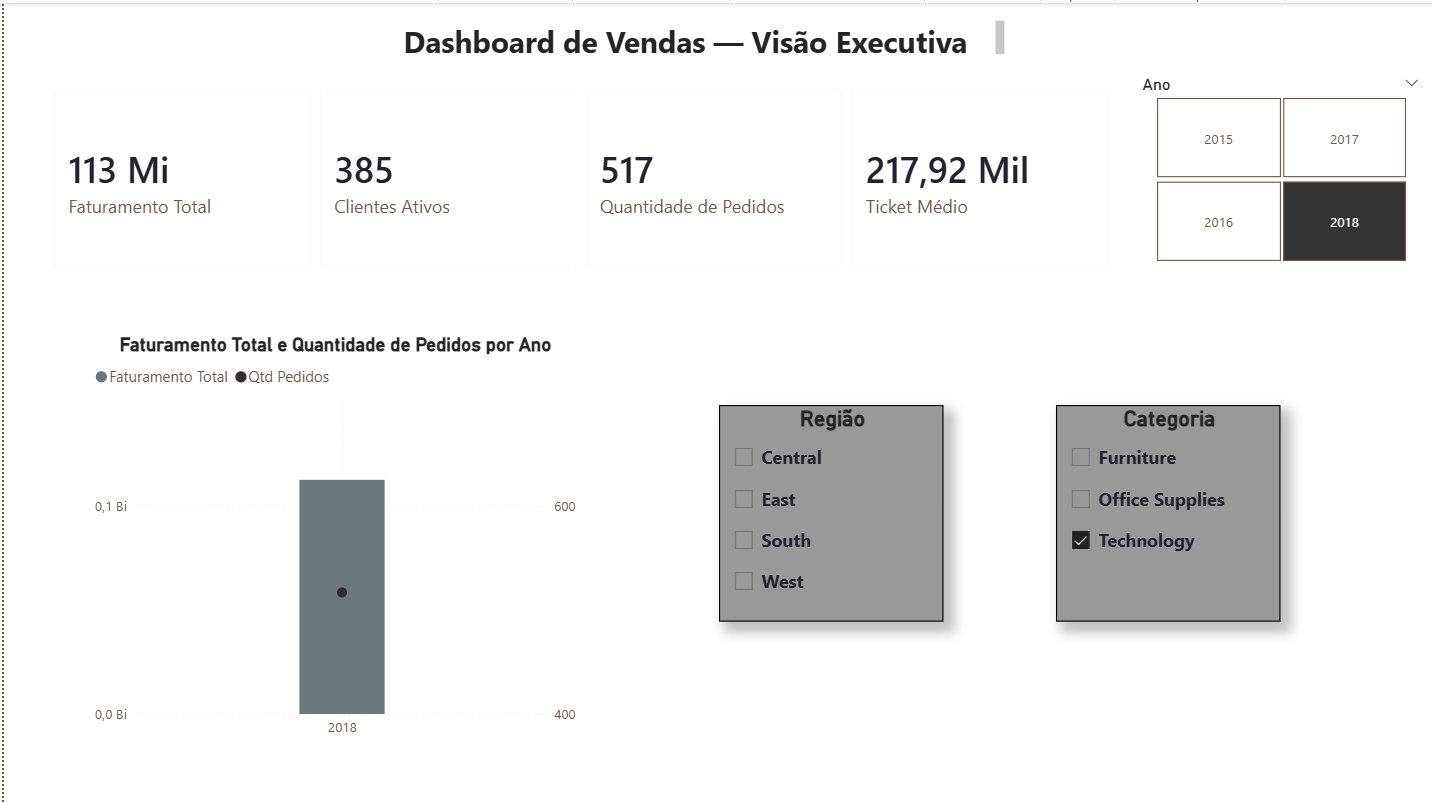

What the dashboard file says about the page in this screenshot:
{"tool":"powerbi","page":{"name":"Página 1","canvas":[1280,720],"ordinal":0},"visuals":[{"type":"cardVisual","title":"asdasd","fields":{"Data":["dados_limpos.Faturamento Total","dados_limpos.Clientes Ativos","dados_limpos.Qtd Pedidos","dados_limpos.Ticket Médio"]},"box":[28.2,60.3,978.5,195.5],"z":0},{"type":"lineClusteredColumnComboChart","title":"Faturamento Total e Quantidade de Pedidos por Ano","fields":{"Category":["dados_limpos.Order Date.Variation.Hierarquia de datas.Ano","dados_limpos.Order Date.Variation.Hierarquia de datas.Mês"],"Y":["dados_limpos.Faturamento Total"],"Y2":["dados_limpos.Qtd Pedidos"]},"box":[75.9,295.7,441.6,371.6],"z":1000},{"type":"slicer","fields":{"Values":["dados_limpos.Order Date.Variation.Hierarquia de datas.Ano"]},"box":[1006.7,60.3,273.3,178],"z":2000},{"type":"slicer","title":"Categoria","fields":{"Values":["dados_limpos.Category"]},"box":[942.5,359.9,201.3,193.6],"z":2001},{"type":"textbox","box":[326.8,10.7,573.9,49.6],"z":2003},{"type":"slicer","title":"Região","fields":{"Values":["dados_limpos.Region"]},"box":[640,359.9,201.3,193.6],"z":2004}]}

Visuals, with their boxes in screenshot pixels (x1, y1, x2, y2), scaled from the page's 1280x720 canvas onto the 1432x804 screenshot:
"asdasd" cardVisual: box(32, 67, 1126, 286)
"Faturamento Total e Quantidade de Pedidos por Ano" lineClusteredColumnComboChart: box(85, 330, 579, 745)
slicer - dados_limpos.Order Date.Variation.Hierarquia de datas.Ano: box(1126, 67, 1431, 266)
"Categoria" slicer: box(1054, 402, 1280, 618)
textbox: box(366, 12, 1008, 67)
"Região" slicer: box(716, 402, 941, 618)
